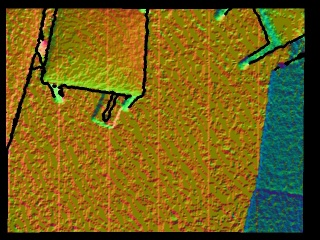station: (92, 91, 125, 130)
